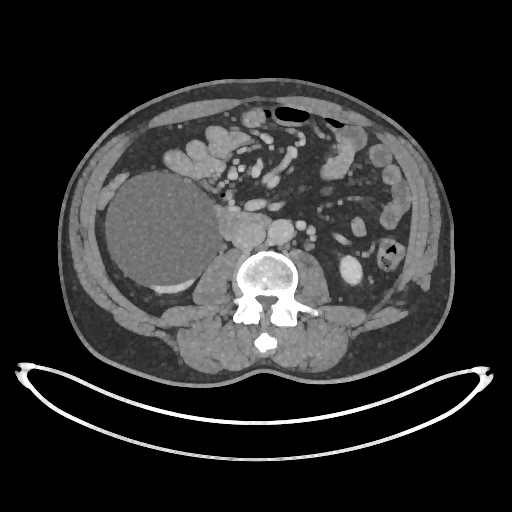Lesion: (103, 175, 221, 287)
